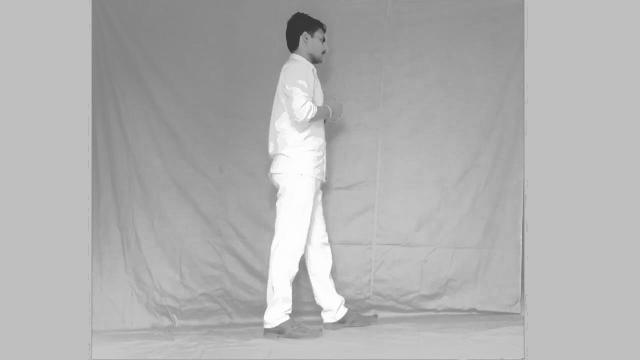berjalan: (258, 10, 384, 334)
